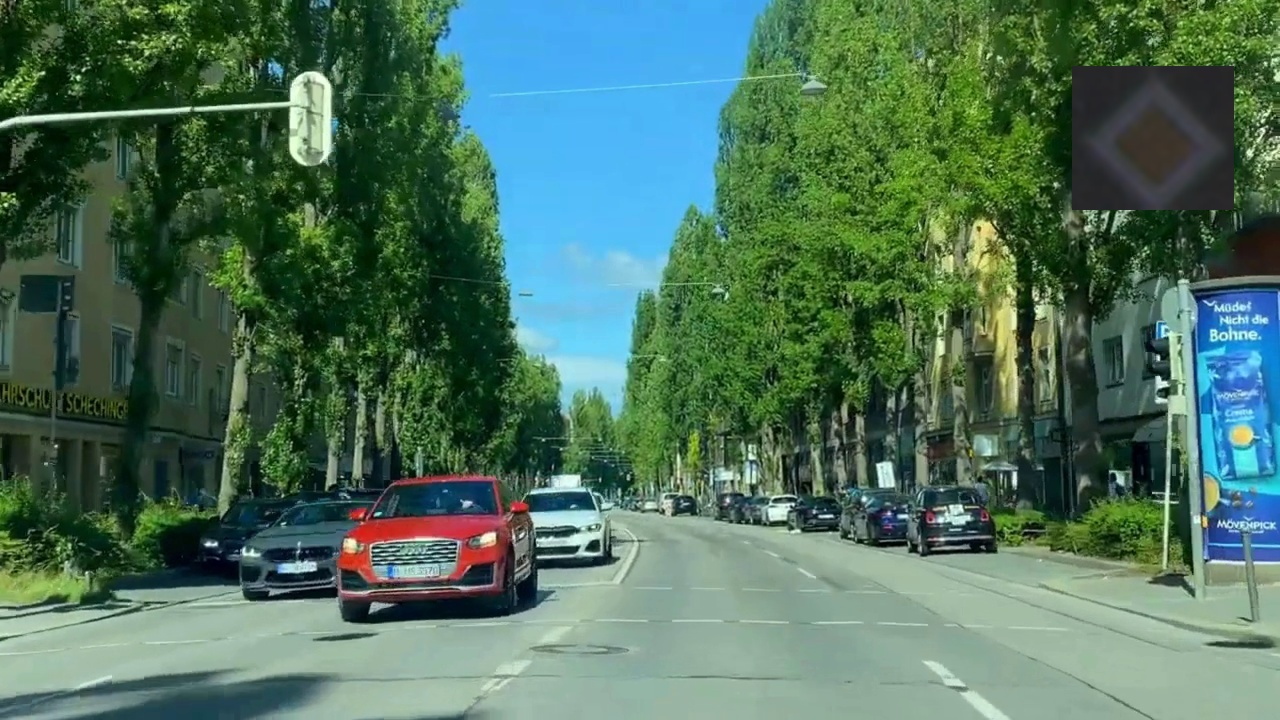Priority road: (1072, 66, 1234, 210)
